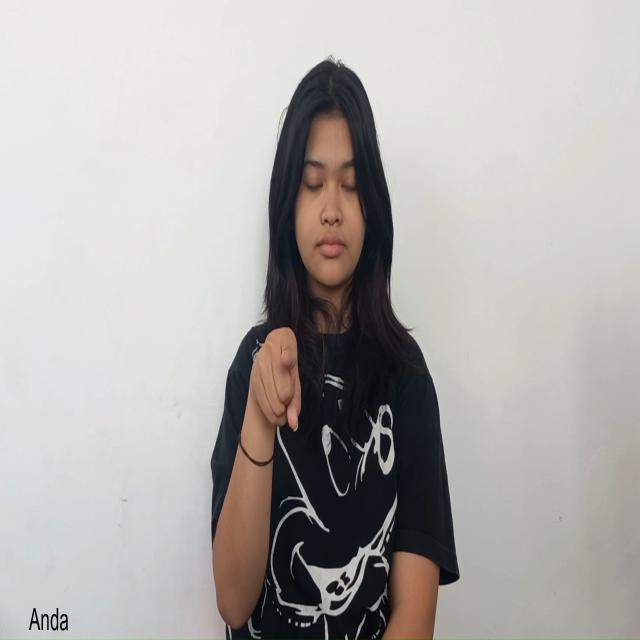Anda -BISINDO-: (248, 323, 304, 433)
